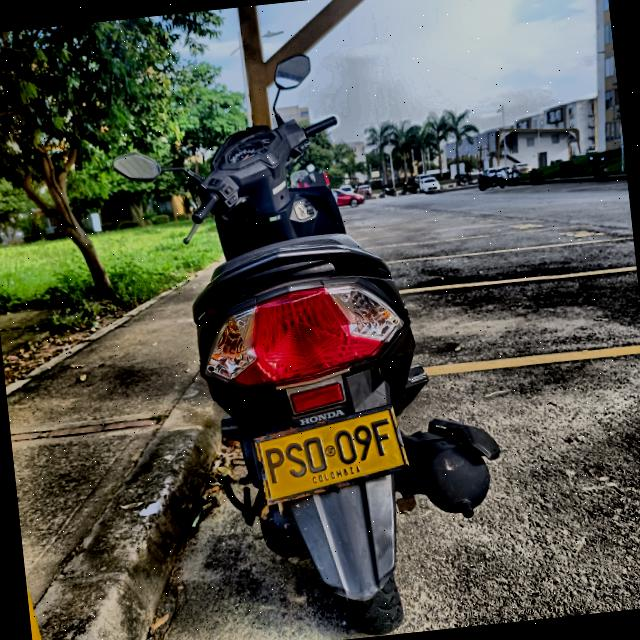plate: (259, 409, 404, 498)
